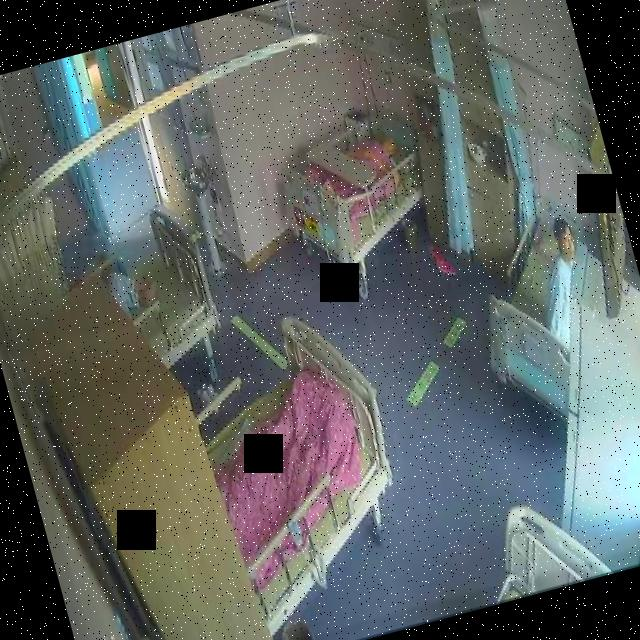bed: (177, 301, 420, 604), (251, 86, 448, 308), (456, 209, 623, 436), (93, 198, 230, 378)
patient: (519, 214, 603, 356)
stand: (520, 213, 604, 358)
